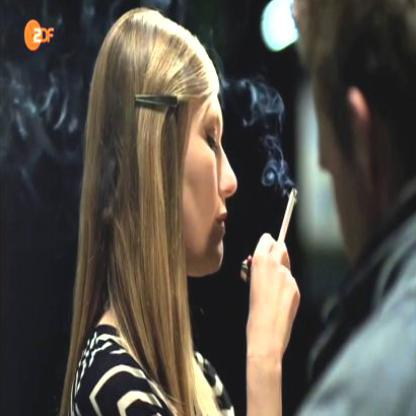cigarette: (275, 184, 298, 244)
person: (61, 13, 238, 415)
smoke: (0, 57, 75, 143), (254, 132, 292, 201), (242, 73, 288, 126)
